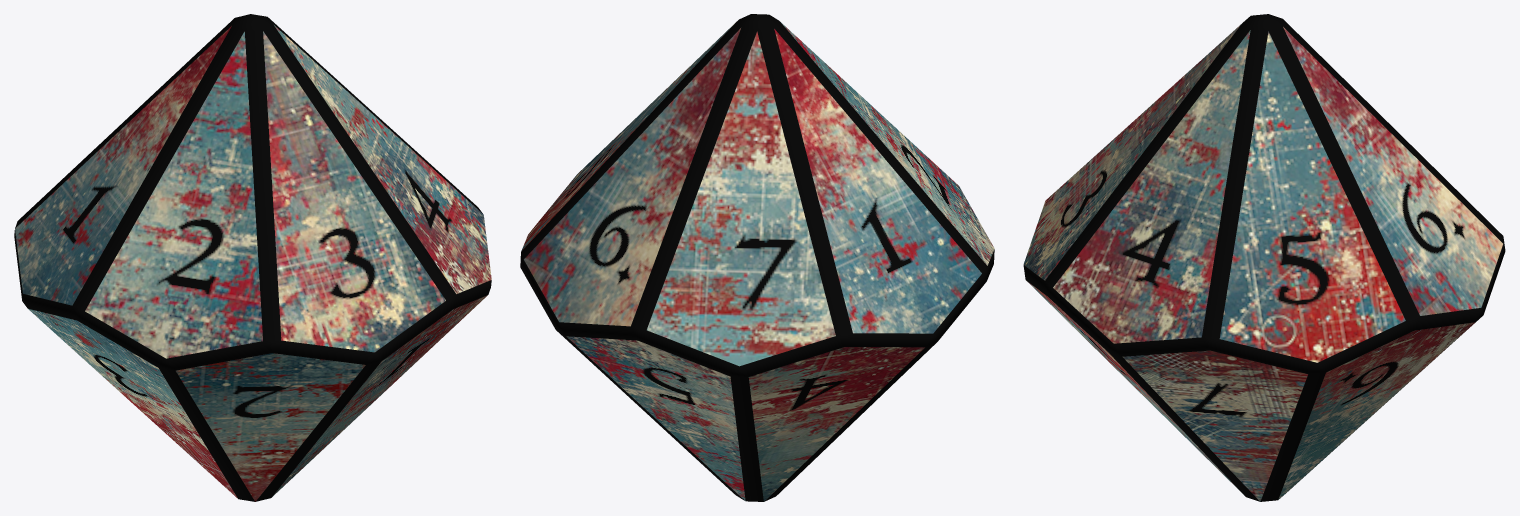
Rendered from chanced7.glb.
3 views of the same model, side by side, from view 1: azimuth 30°, elevation 25°; view 2: azimuth 150°, elevation 25°; view 3: azimuth 270°, elevation 25° (orthographic).
Visible parts, largest first — view 1: Mesh_0; view 2: Mesh_0; view 3: Mesh_0.
Part boxes in pixels (x1,y1,x2,y2): Mesh_0: (14, 14, 491, 501); Mesh_0: (520, 14, 994, 501); Mesh_0: (1023, 14, 1505, 501).
Size of the model in its own units: 152 by 175 by 157.
Materials: 1 (1 with a texture image).
